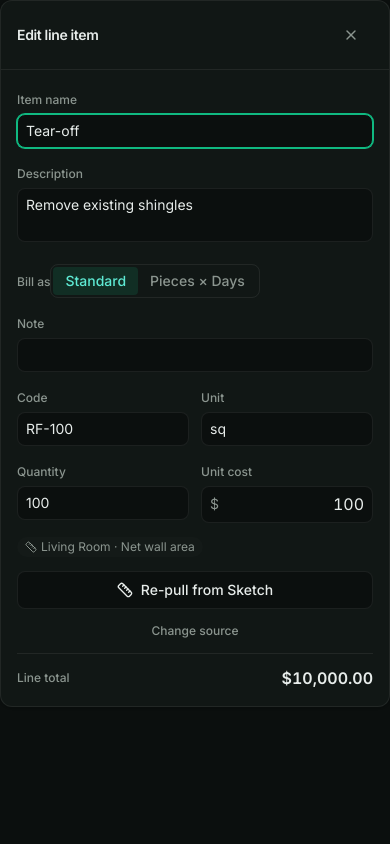
Test: LineItemEditorPanel — equipment pricing (#682) › Re-pull contract (#864) › keeps the fresh-pull picker reachable via Change source
Click the button with test id "sketch-change-source-button" at (195, 631), box [17,623,373,639]
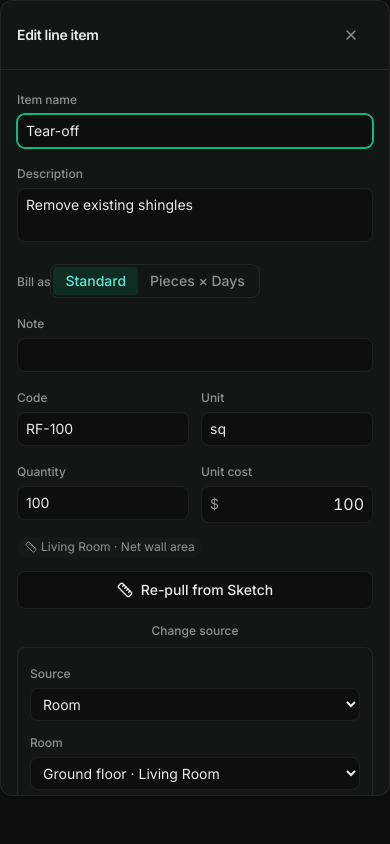
Now the dropdown with test id "sketch-picker-room" is shown, box [30,757,360,790]
